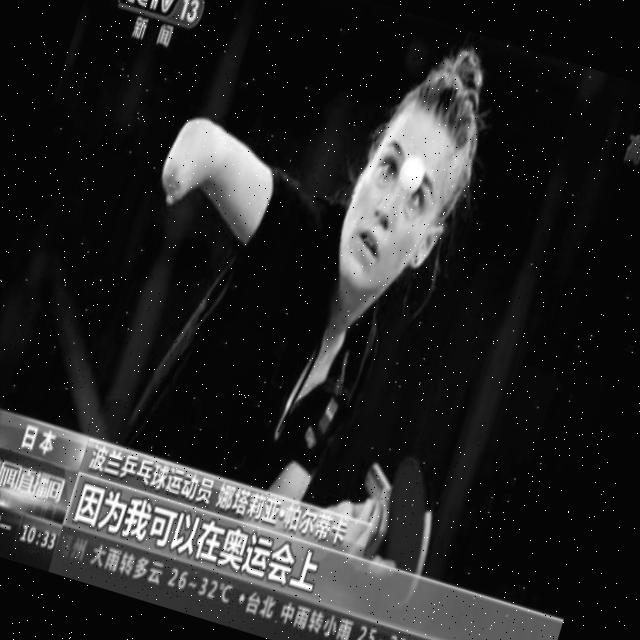ping-pong-ball: (386, 143, 432, 201)
